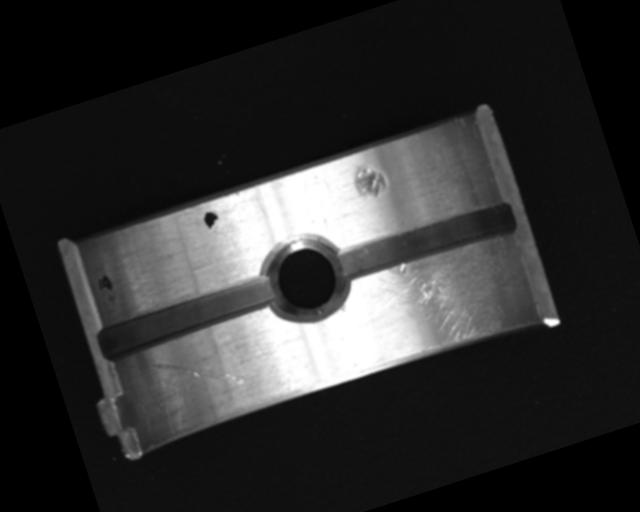blot: (94, 271, 119, 308), (201, 208, 222, 234)
bruise: (348, 155, 390, 202)
gap: (327, 195, 520, 291), (91, 268, 281, 364)
hole: (250, 224, 358, 336)
nick: (150, 337, 247, 409)
scratch: (346, 231, 531, 373)
